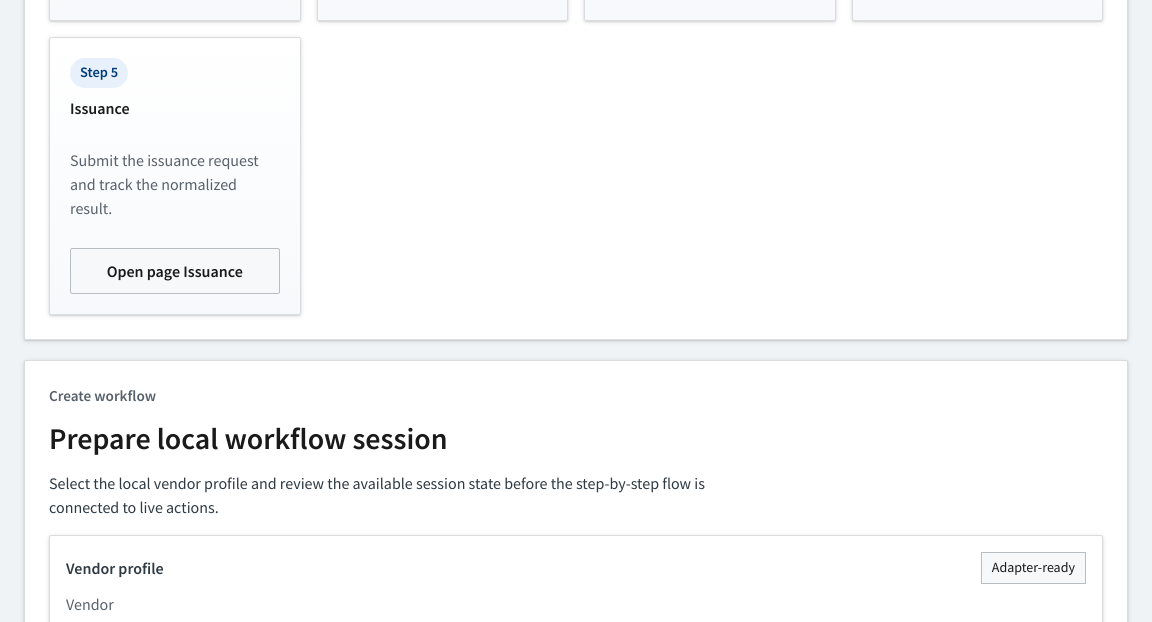
Test: App polling › hides the matched VAT attestation block while keeping issuance actions on the issuance page
The width and height of the screenshot is (1152, 622).
(page scrolled)
Click the button "Open page Issuance" at point(175, 271), box [70,248,280,294]
(page scrolled)
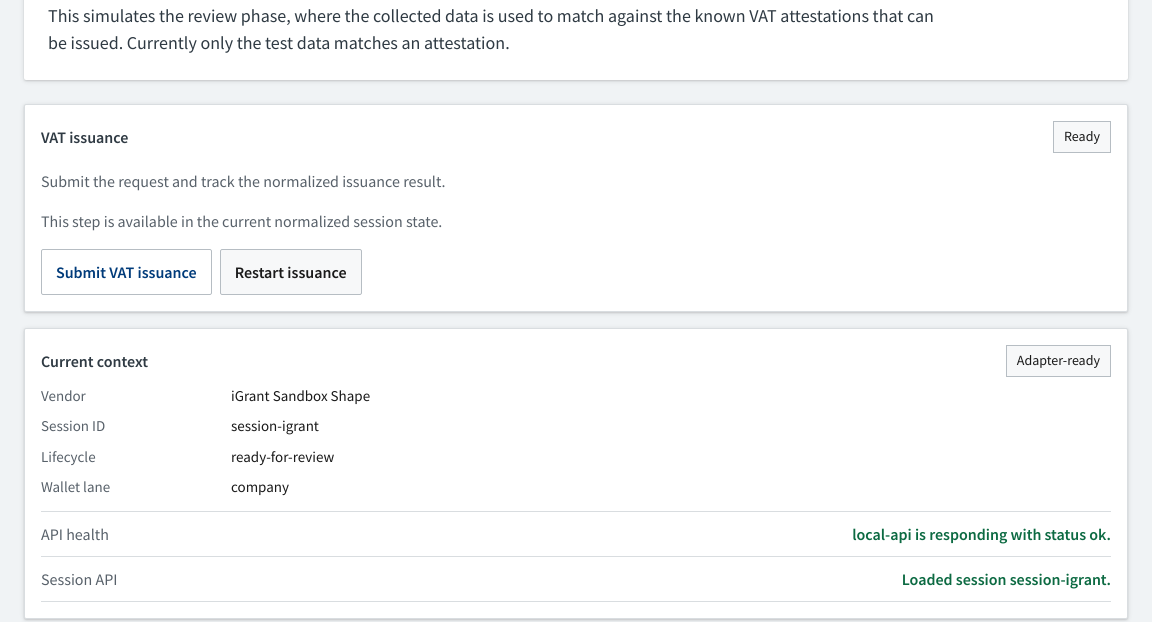
Expected: the button "Submit VAT issuance" is shown, [41,249,212,295]
Expected: the button "Restart issuance" is shown, [220,249,362,295]
